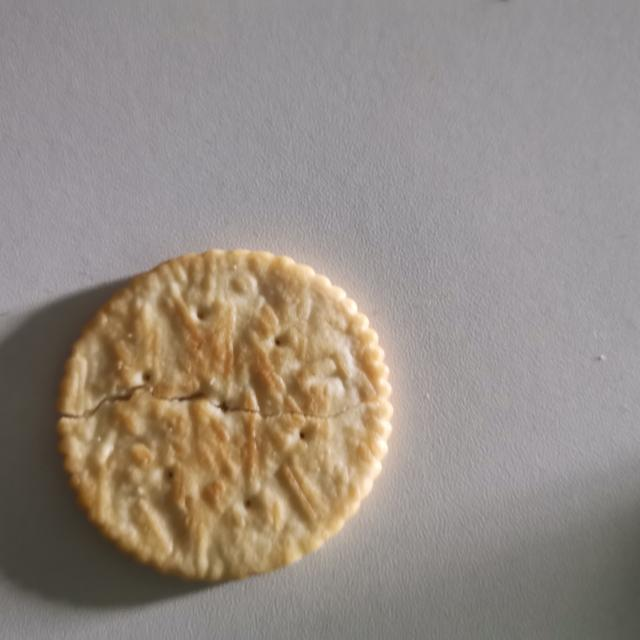Fracture: (51, 383, 386, 436)
